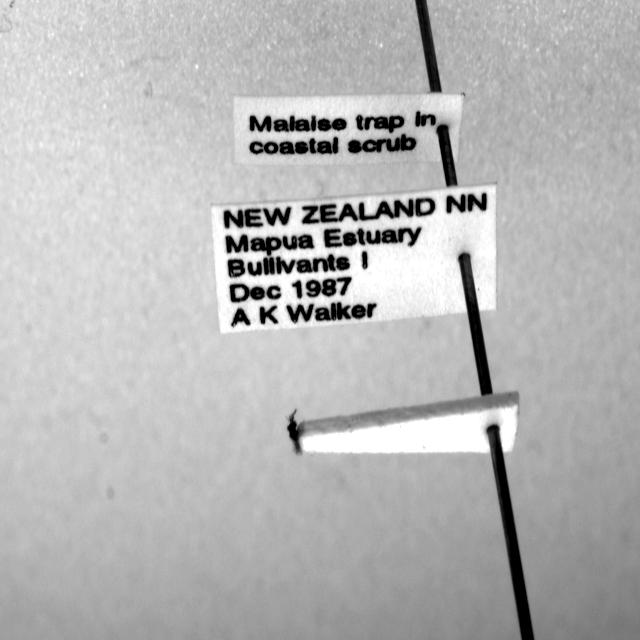typed_label: (211, 184, 496, 334), (234, 94, 464, 165)
